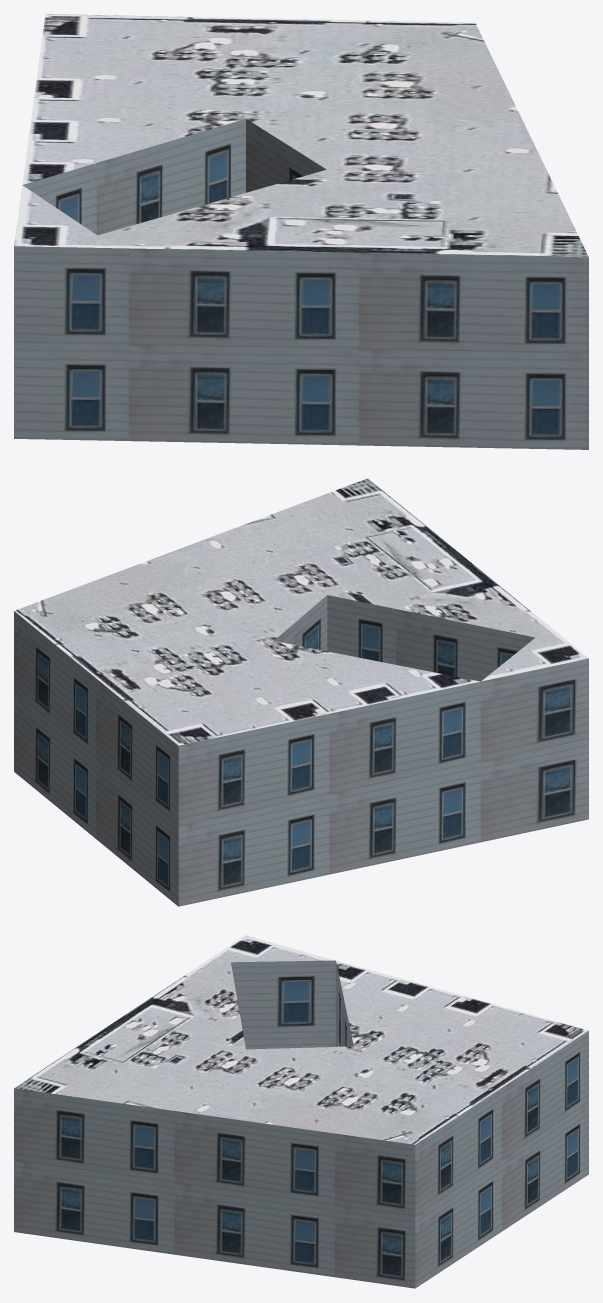
Rendered from ResTex__3289.fbx.
3 views of the same model, one above another, from view 1: azimuth 30°, elevation 25°; view 2: azimuth 150°, elevation 25°; view 3: azimuth 270°, elevation 25° (orthographic). The views are drawn at different scales.
Parts seen in each view (by area): view 1: CityEngineMaterial_18_m, CityEngineMaterial_4_m; view 2: CityEngineMaterial_18_m, CityEngineMaterial_4_m; view 3: CityEngineMaterial_18_m, CityEngineMaterial_4_m.
Boxes of the visible parts, <box> form: CityEngineMaterial_18_m: <box>14,119,588,449</box>; CityEngineMaterial_4_m: <box>14,14,588,257</box>; CityEngineMaterial_18_m: <box>14,595,588,906</box>; CityEngineMaterial_4_m: <box>14,478,588,745</box>; CityEngineMaterial_18_m: <box>14,960,588,1288</box>; CityEngineMaterial_4_m: <box>14,935,588,1144</box>.
Size of the model in its own units: 18.75 by 6 by 21.75.
Materials: 2 (2 with a texture image).
